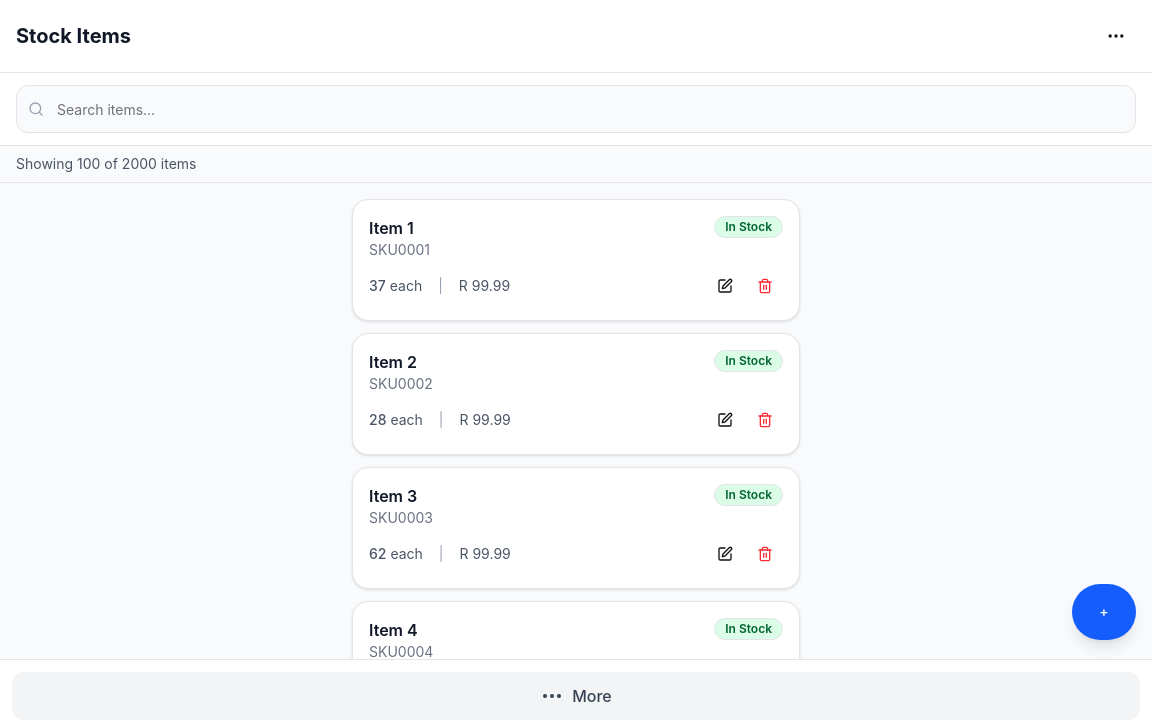
Scenario: Stock Items Page - QA Validation › Edge Cases › handles empty search results gracefully
The width and height of the screenshot is (1152, 720).
expect the heading "Item 1" is shown: met, box [369,218,414,238]
Step 1. Type "nonexistent" into the field with placeholder "Search items..." → (576, 109), box [16,85,1136,133]
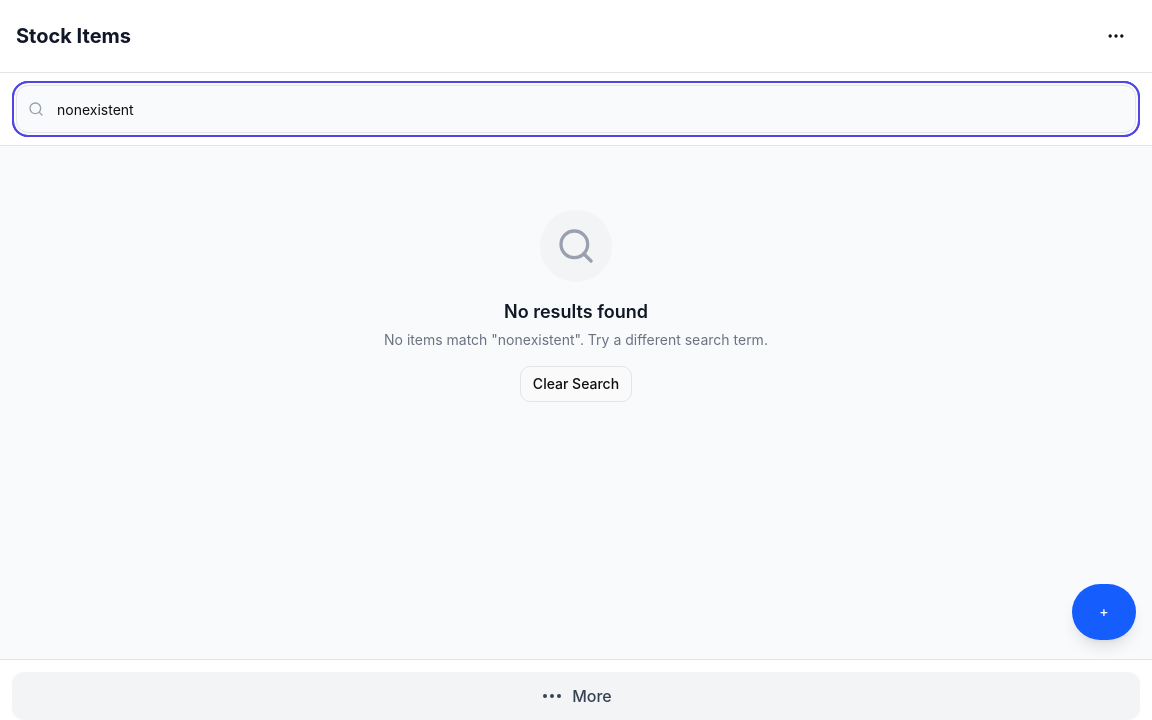
expect the heading "No results found" is shown: met, box [504,298,648,326]
